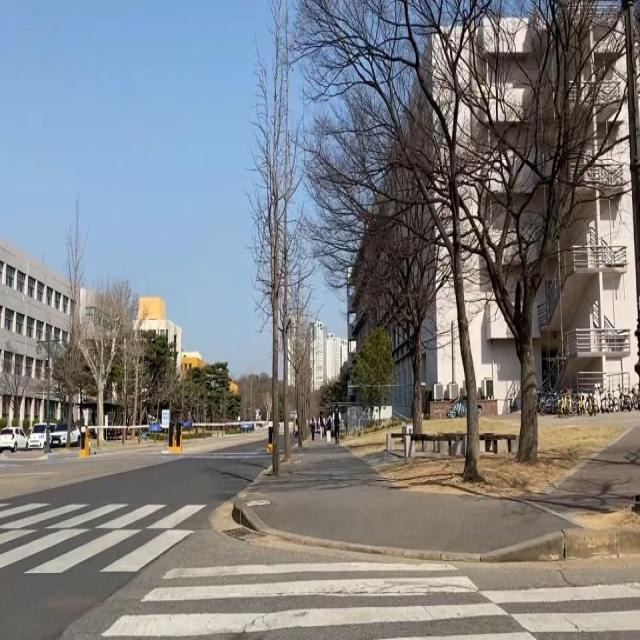sidewalk: (235, 427, 640, 552), (89, 439, 167, 452), (3, 447, 81, 459)
